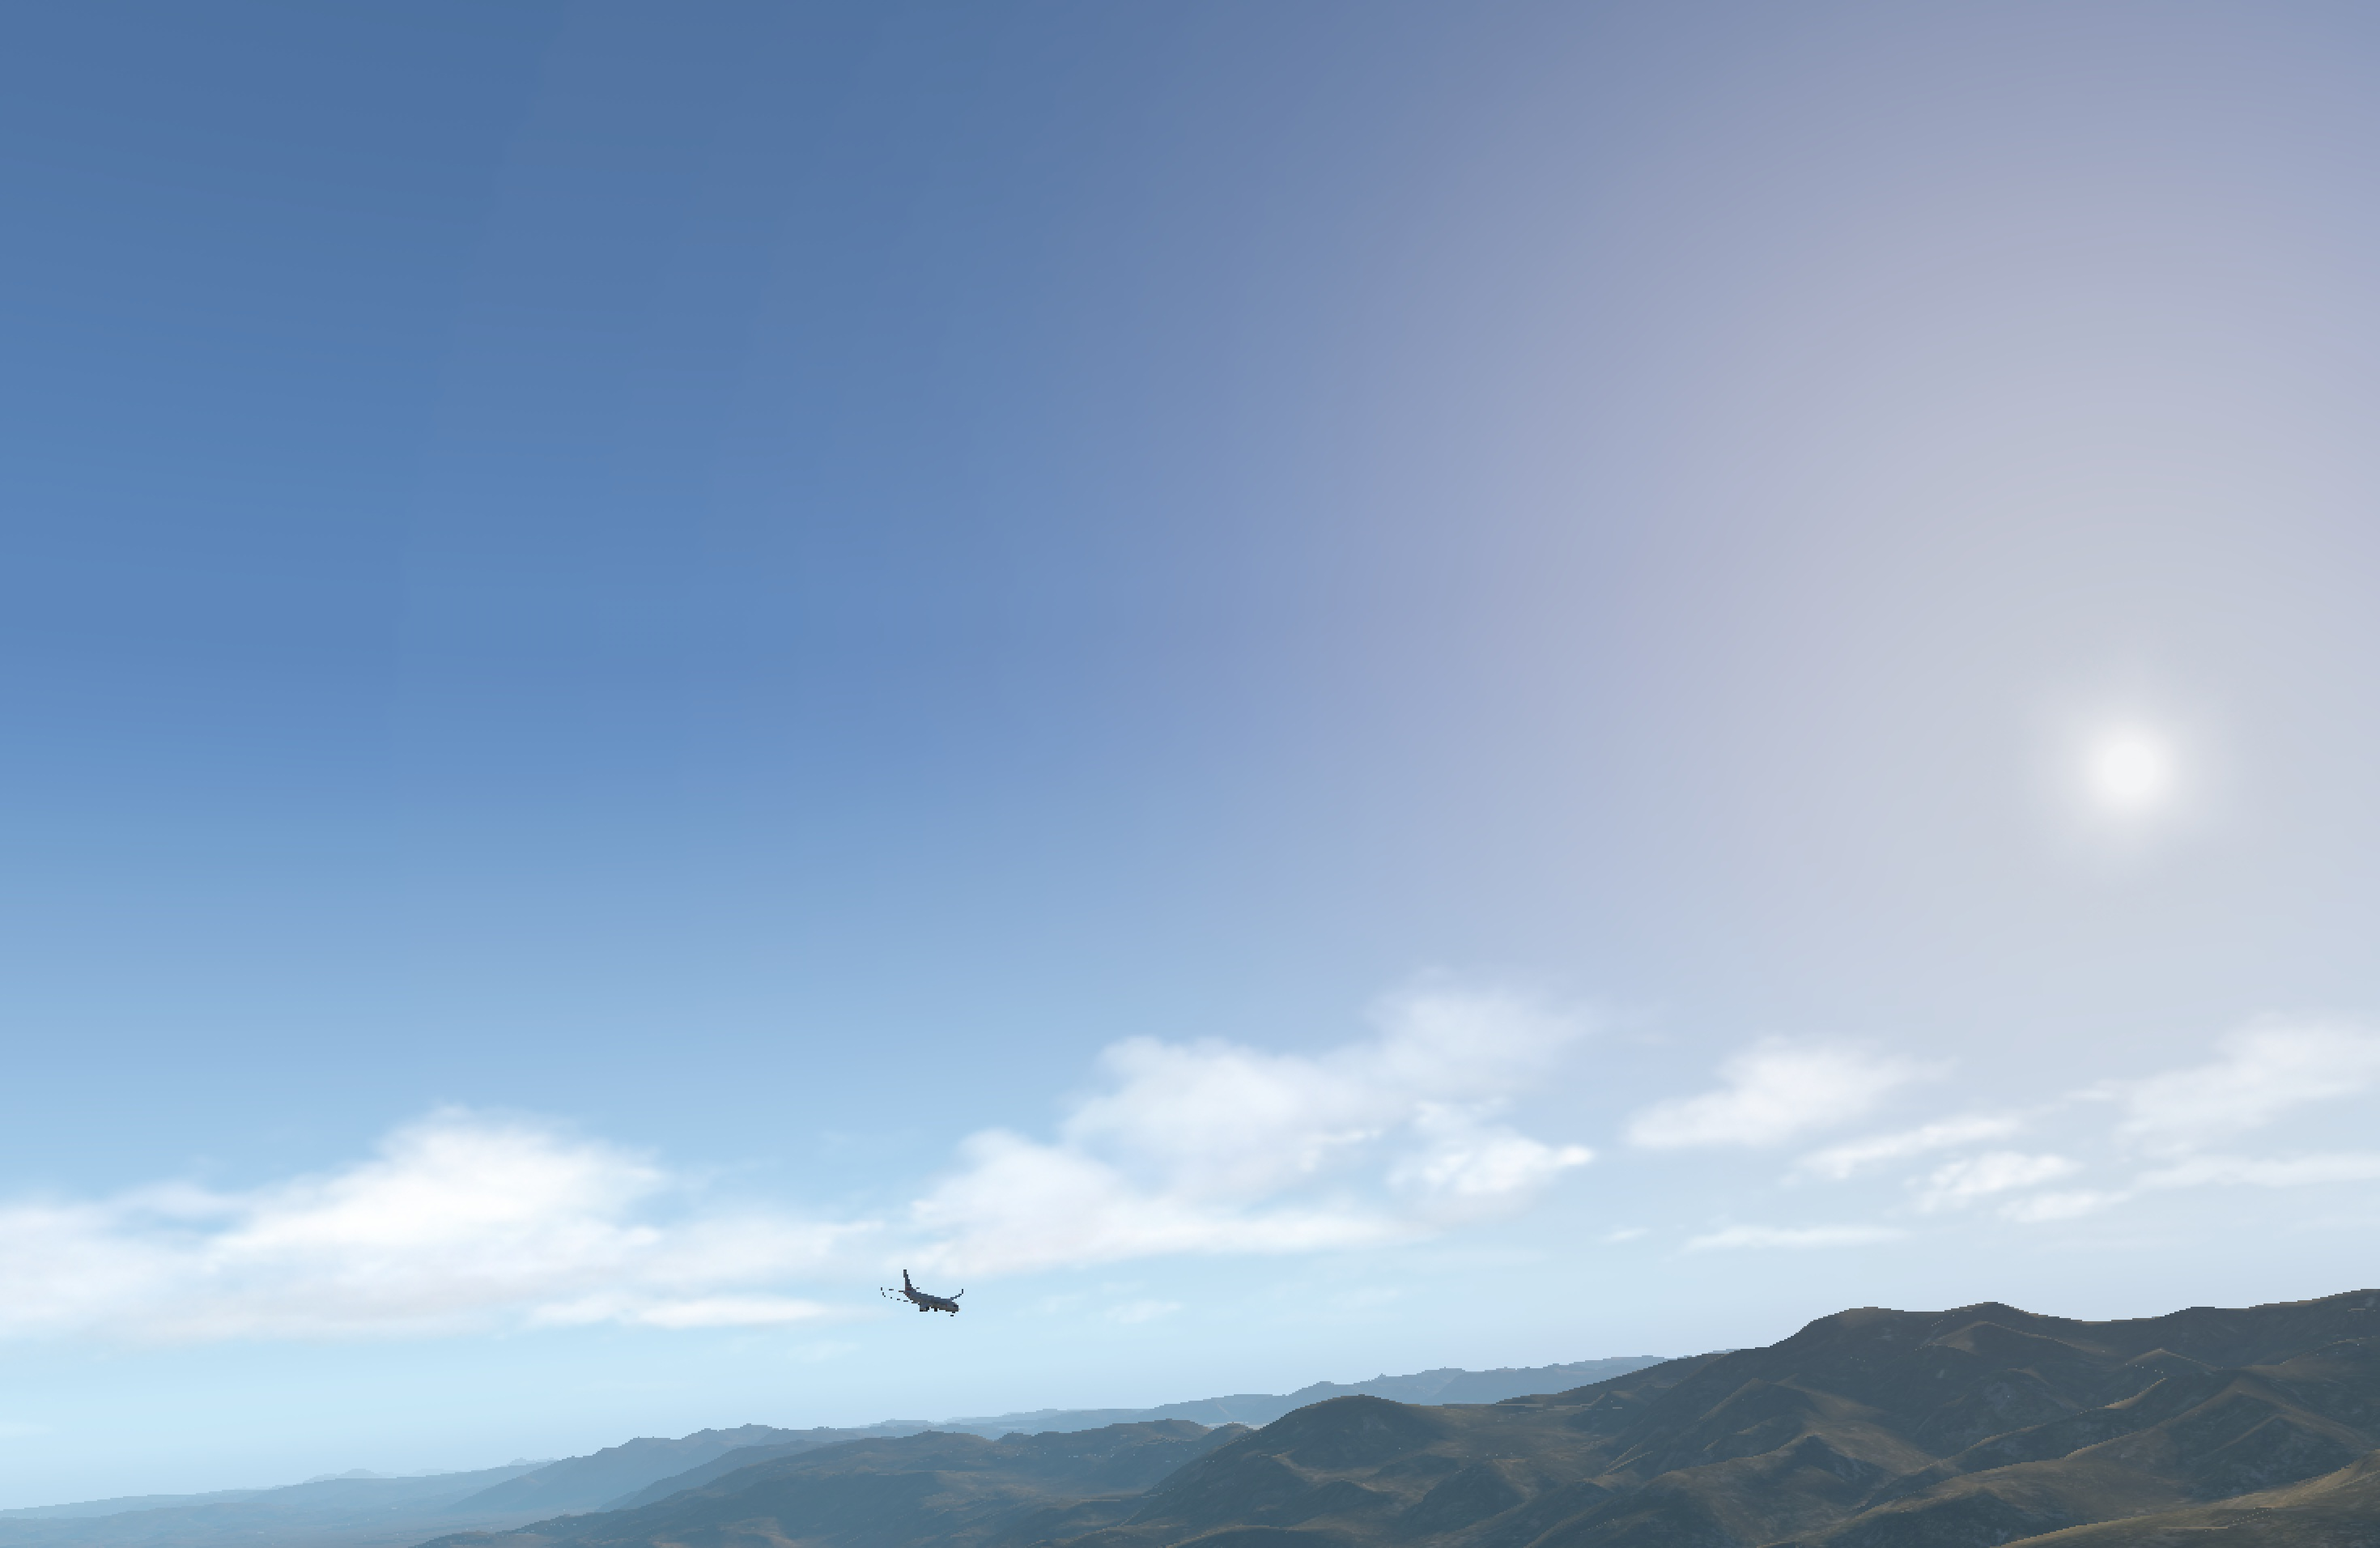aircraft: (879, 1284, 984, 1322)
